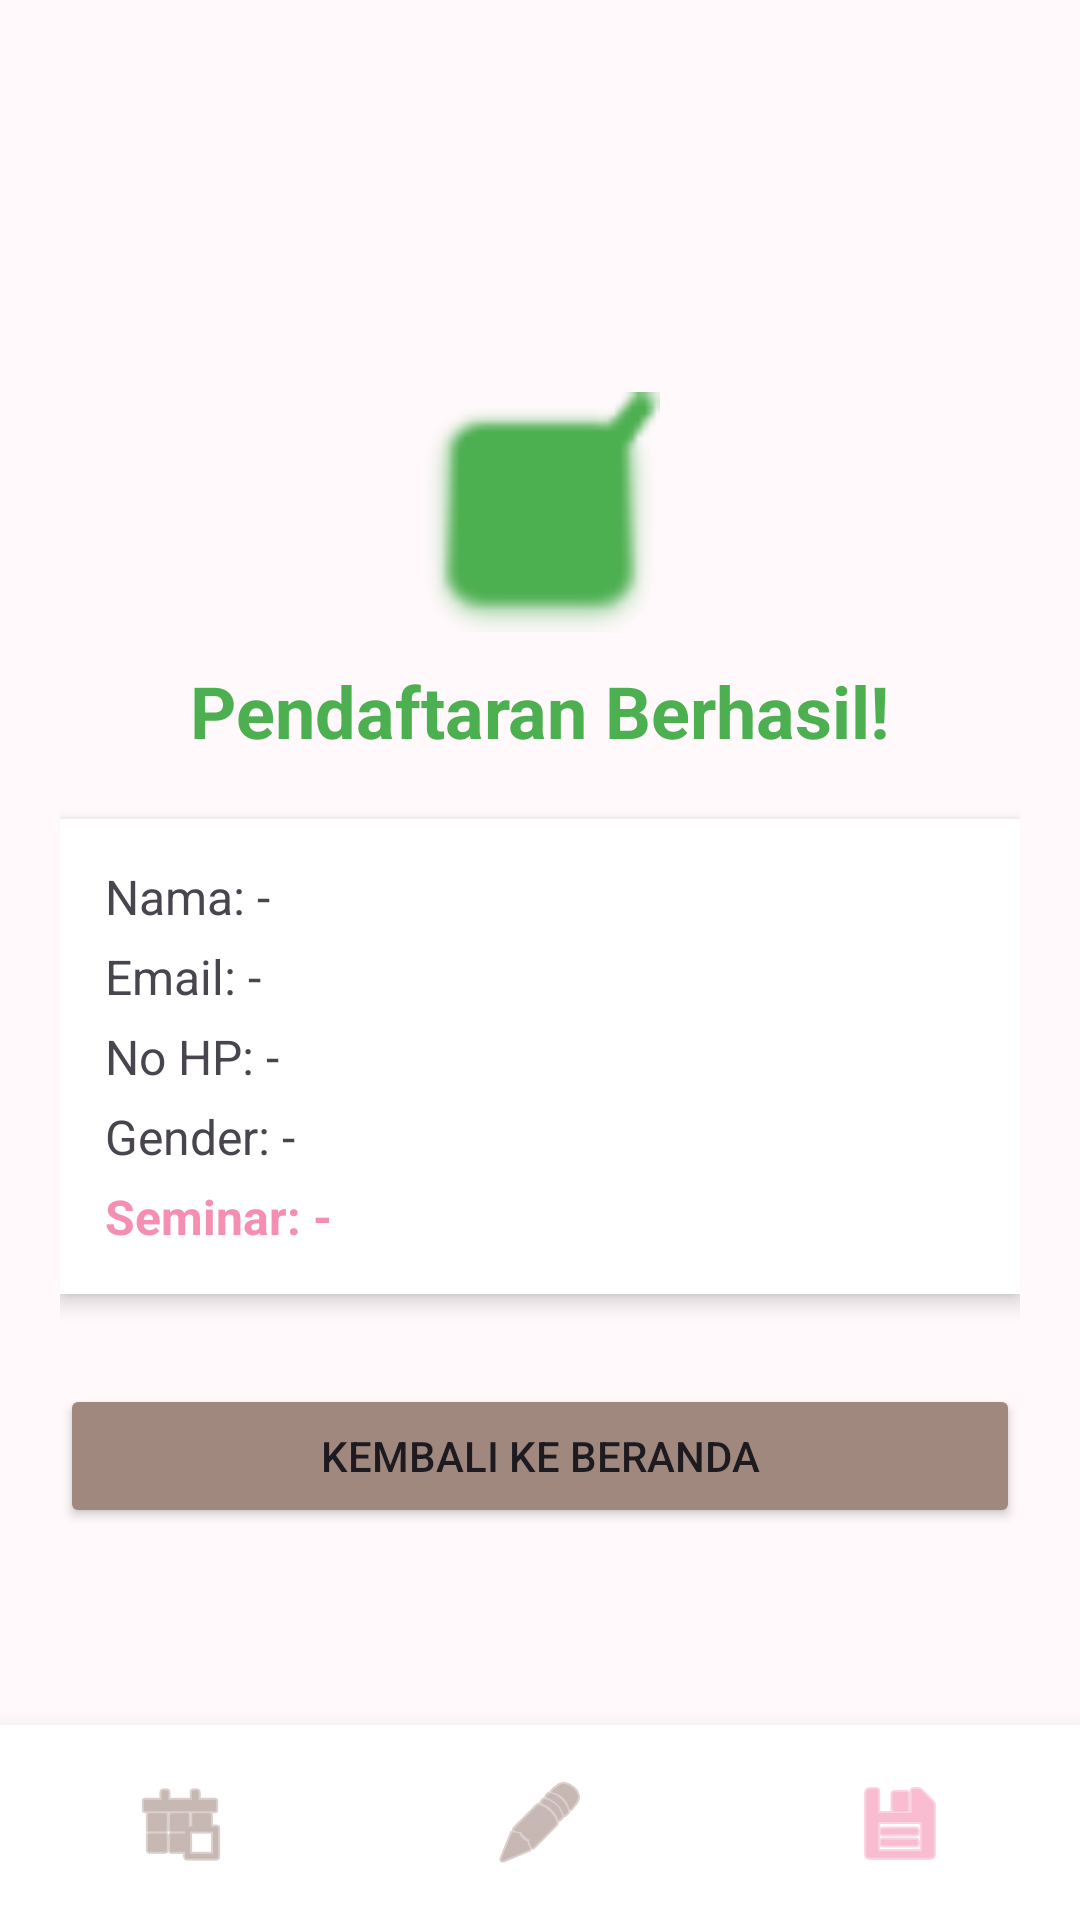

Icon bounding boxes for this 1080 x 1920 phone screenshot, format bbox=(x1, y1, x2, y2):
edit: bbox=(499, 1782, 580, 1863)
save: bbox=(864, 1787, 936, 1860)
today: bbox=(142, 1788, 220, 1861)
